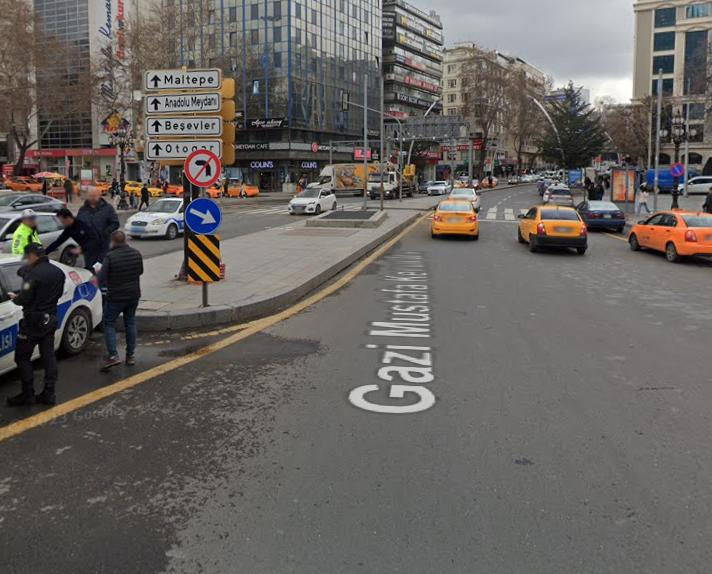leftturnsareforbidden: (187, 151, 220, 187)
nopark: (670, 163, 684, 177)
